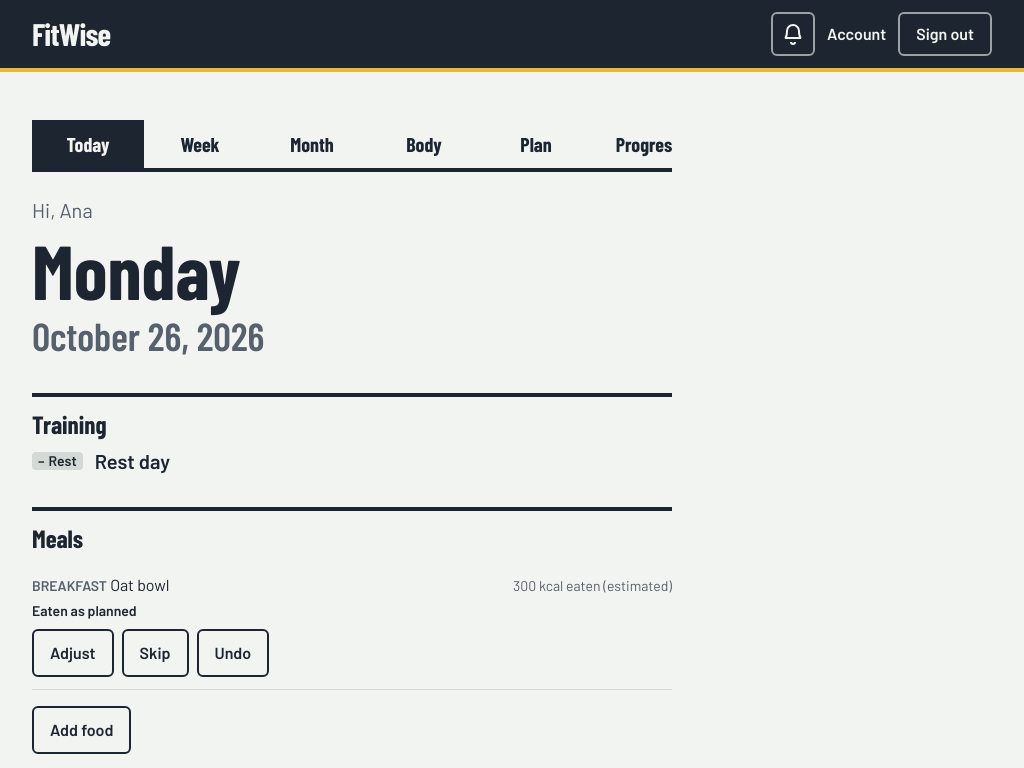
Test case: Today meals (F12) › undoes a check-off
Click the button with aria-label "Undo: Oat bowl". click: (233, 653)
box: [196, 629, 269, 677]
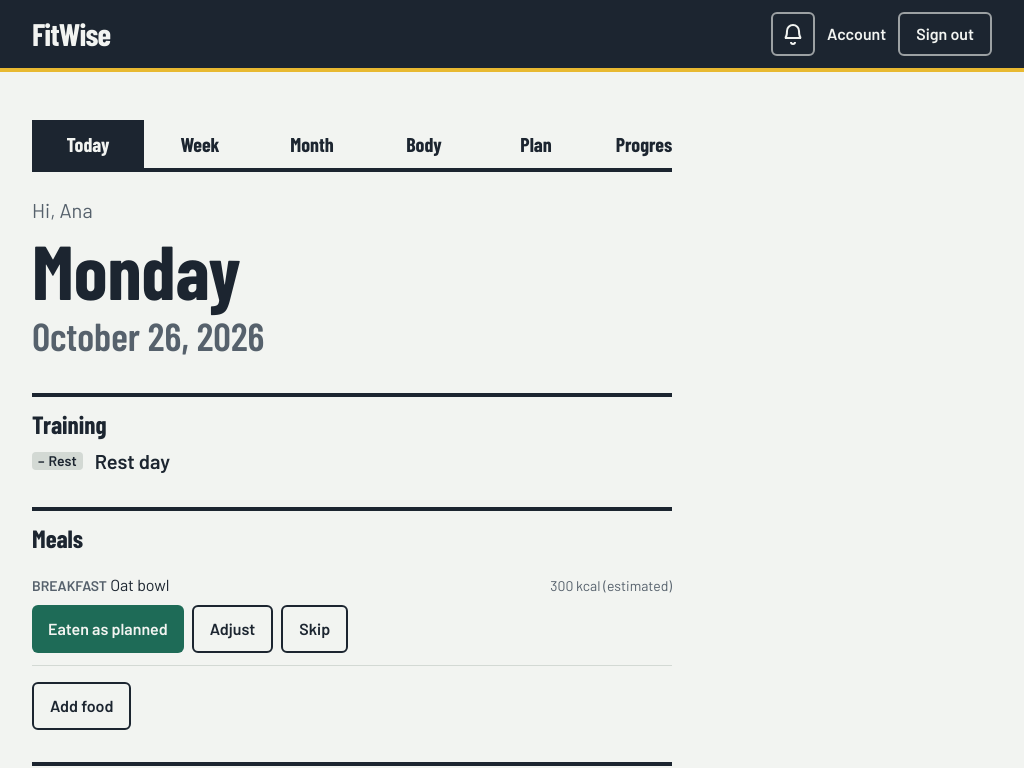
Expected: the button with aria-label "Eaten as planned: Oat bowl" is shown, [32, 605, 184, 653]
